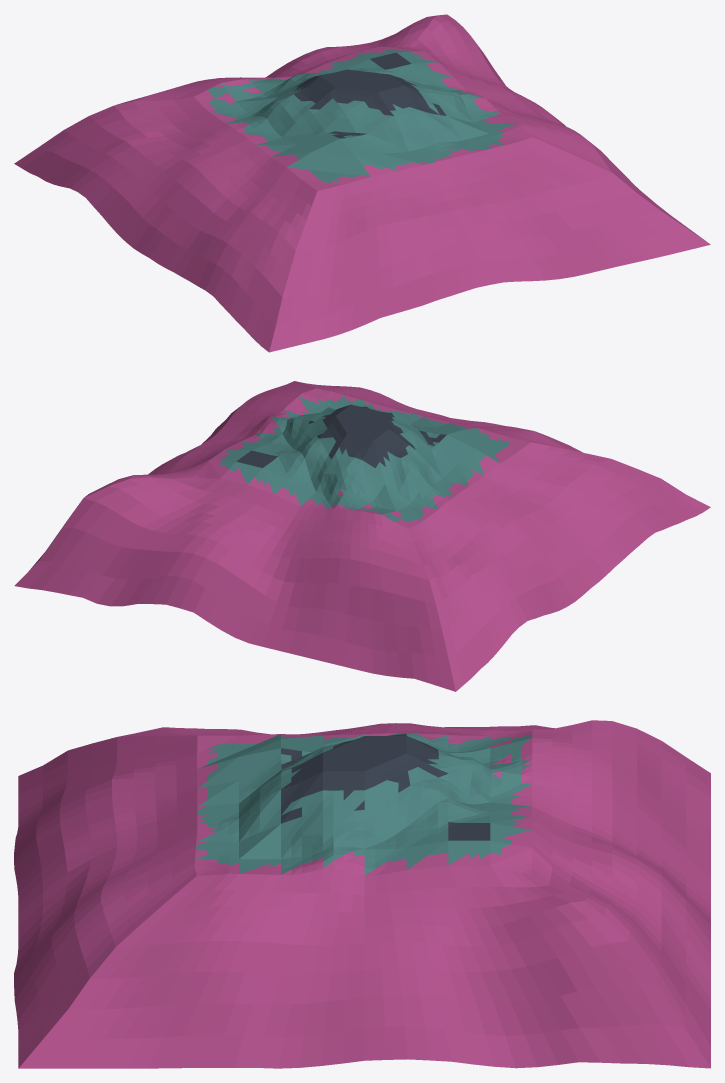
Rendered from kiosqueIsland.fbx.
The picture shows the model from 3 angles, top to bottom: view 1: azimuth 30°, elevation 25°; view 2: azimuth 150°, elevation 25°; view 3: azimuth 270°, elevation 25°; orthographic projection. The views are drawn at different scales.
Parts seen in each view (by area): view 1: Plane; view 2: Plane; view 3: Plane.
Part boxes in pixels (left/top/right/bottom): Plane: left=14, top=14, right=710, bottom=352; Plane: left=14, top=381, right=710, bottom=691; Plane: left=14, top=720, right=710, bottom=1068.
Bounding box in the file's own units: 8.31 × 2.22 × 8.32.
